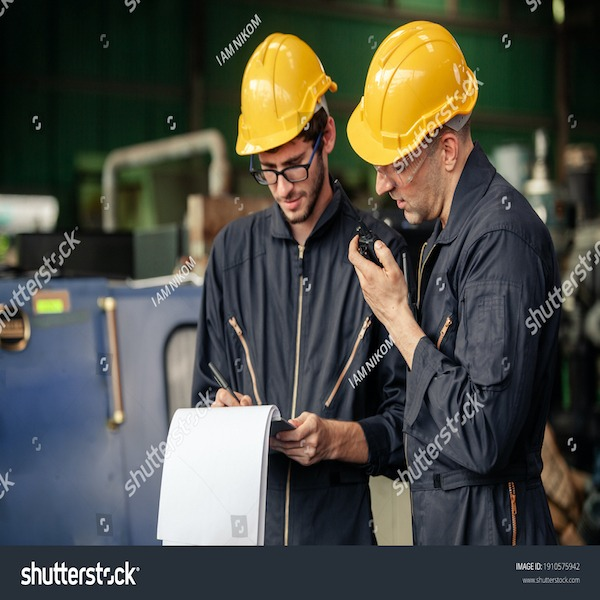helmet: (347, 19, 478, 165), (236, 32, 335, 146)
